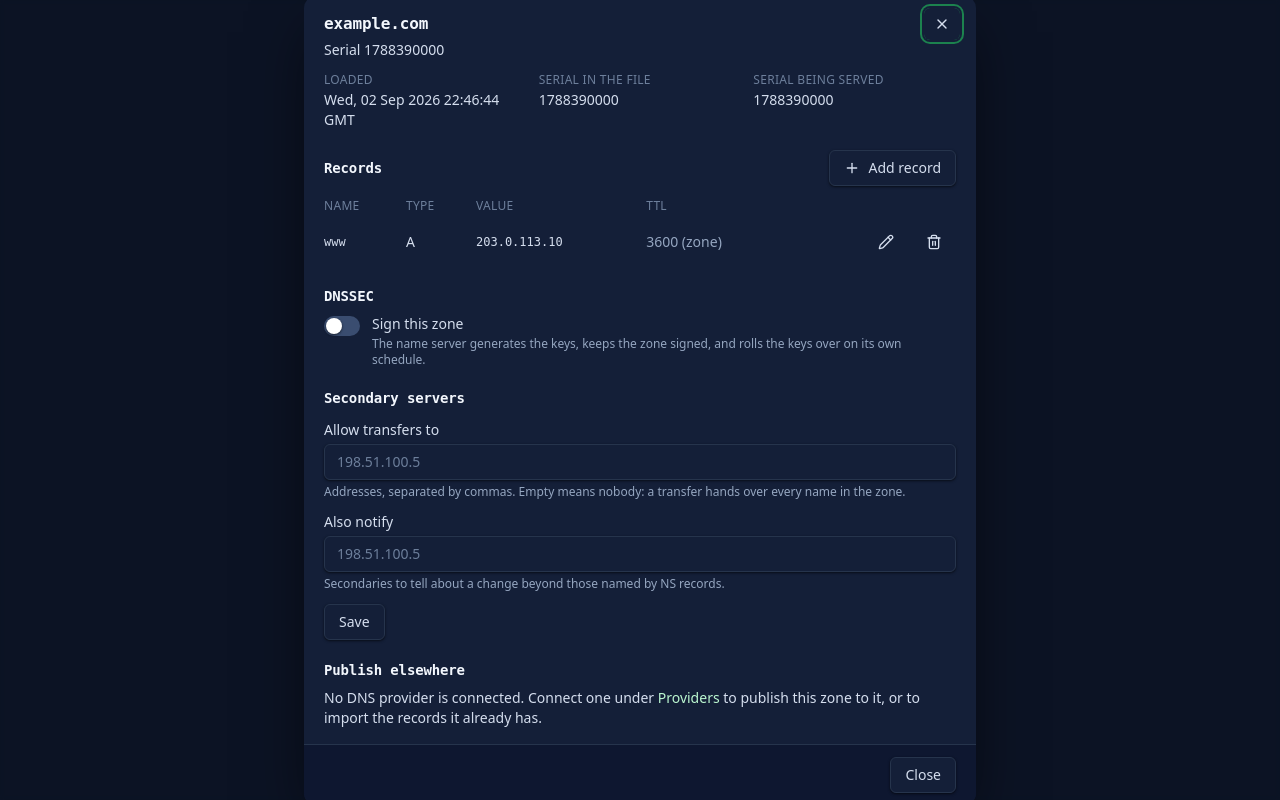
Test case: ZoneEditor › shows the reason a record was refused
The width and height of the screenshot is (1280, 800).
Click the button "Add record" at (893, 168), box [830, 150, 956, 186]
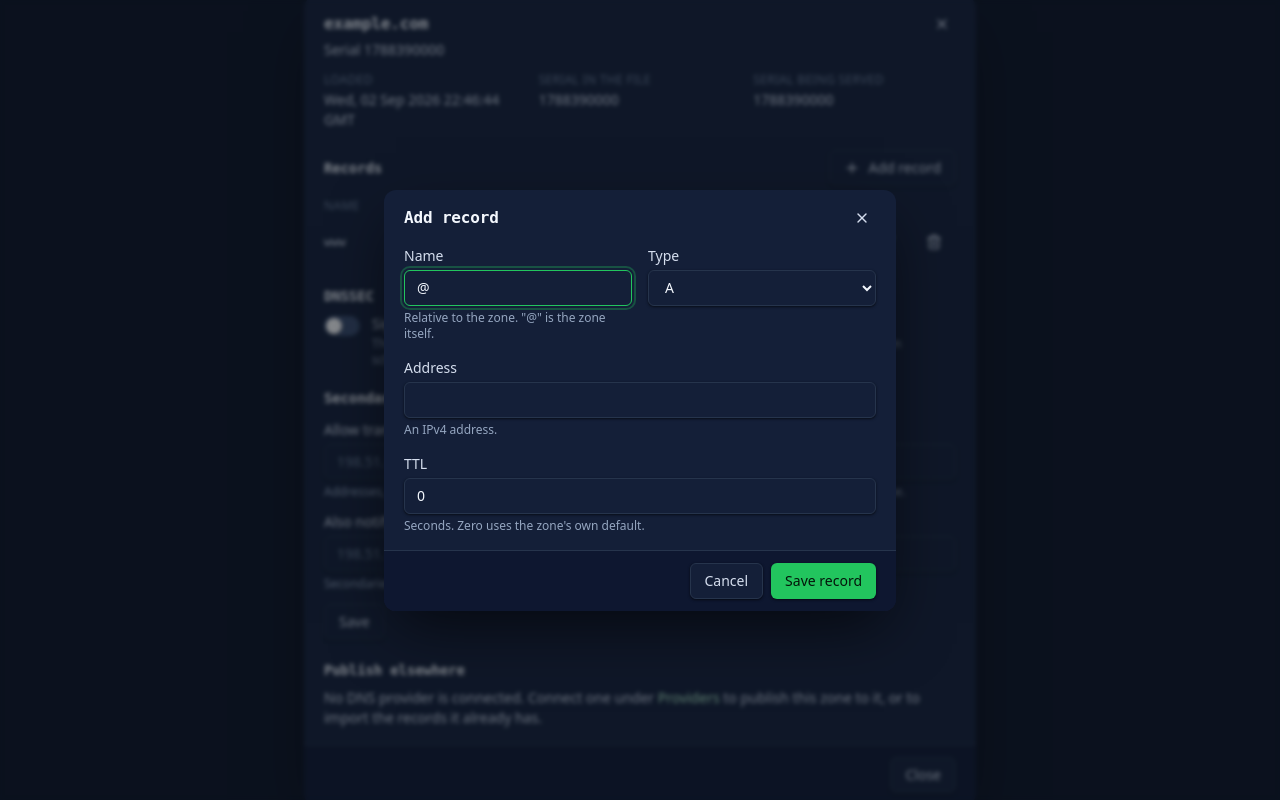
Type "203.0.113.9" into the field labelled "Address" at (640, 400), box [404, 382, 876, 418]
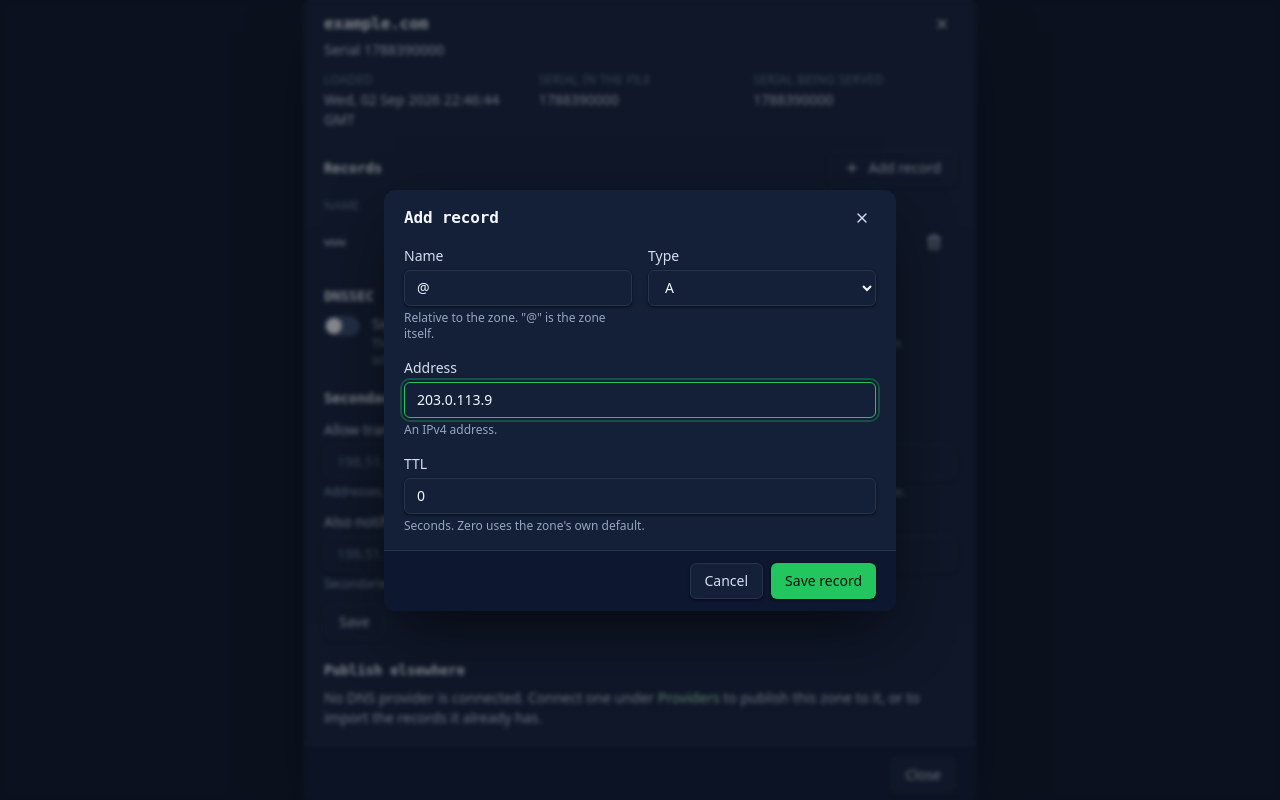
Click the button "Save record" at (824, 580), box [771, 562, 876, 598]
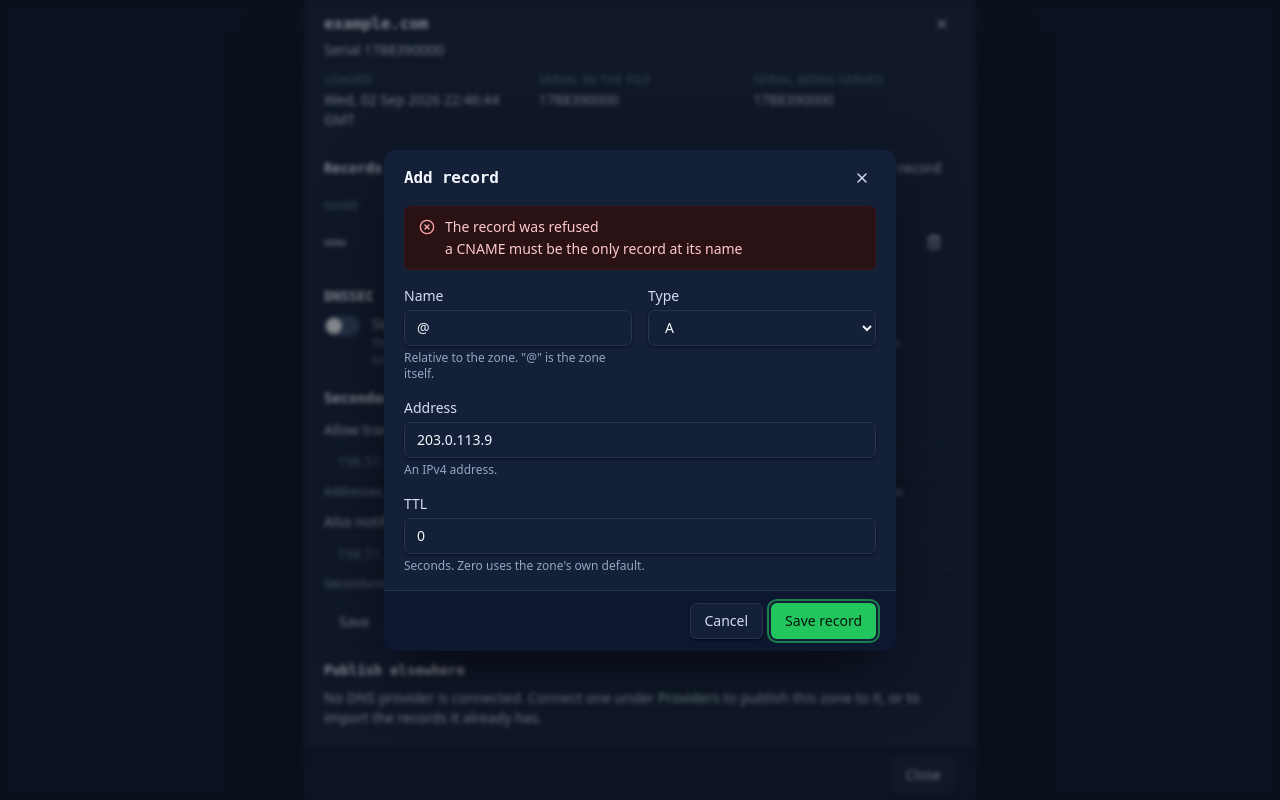
Now the text "a CNAME must be the only record at its name" is shown, box [445, 238, 742, 258]
